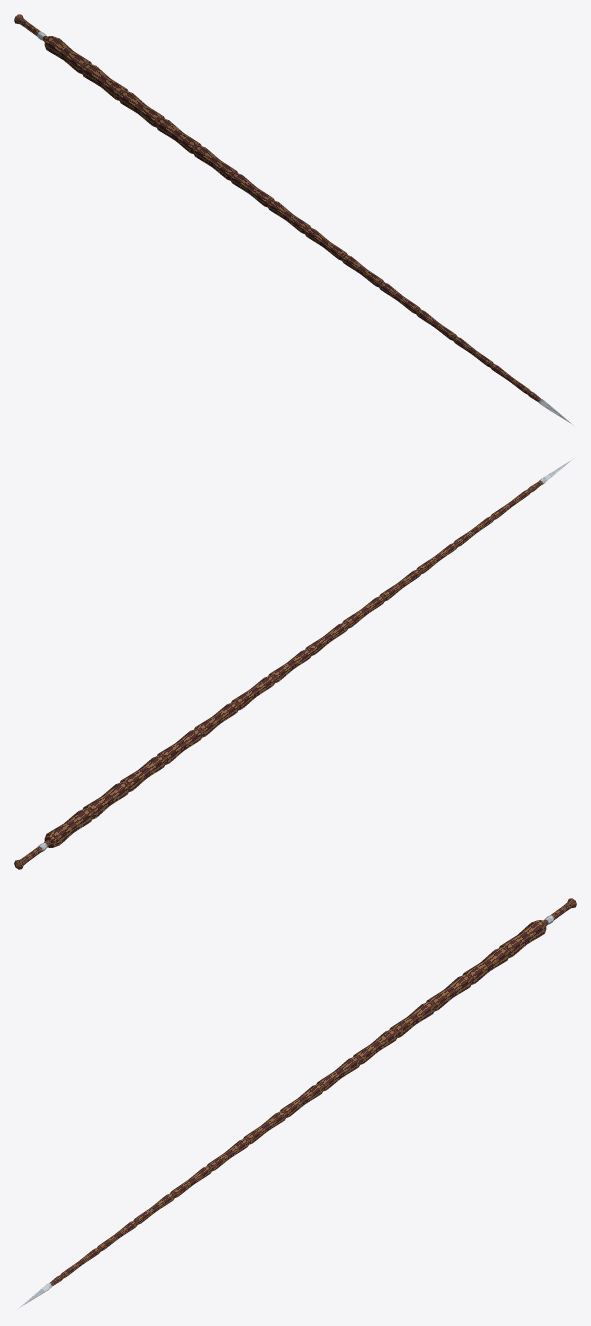
Rendered from peitsche-b-leder-schlag.glb.
The picture shows the model from 3 angles, top to bottom: view 1: azimuth 30°, elevation 25°; view 2: azimuth 150°, elevation 25°; view 3: azimuth 330°, elevation 25°; orthographic projection.
Parts seen in each view (by area): view 1: seg01, seg02, seg03, seg04, seg05, seg06; view 2: seg01, seg02, seg03, seg04, seg05, seg06; view 3: seg01, seg02, seg03, seg04, seg05, seg06.
Boxes of the visible parts, bbox=[...] form: seg01: bbox=[44, 36, 91, 73]; seg02: bbox=[82, 63, 128, 100]; seg03: bbox=[119, 90, 164, 127]; seg04: bbox=[156, 118, 201, 153]; seg05: bbox=[193, 145, 237, 180]; seg06: bbox=[230, 172, 274, 207]; seg01: bbox=[44, 808, 92, 847]; seg02: bbox=[83, 782, 128, 819]; seg03: bbox=[120, 755, 165, 791]; seg04: bbox=[157, 728, 201, 764]; seg05: bbox=[194, 702, 238, 737]; seg06: bbox=[231, 675, 275, 710]; seg01: bbox=[499, 920, 546, 957]; seg02: bbox=[462, 947, 508, 984]; seg03: bbox=[426, 974, 471, 1011]; seg04: bbox=[389, 1002, 434, 1037]; seg05: bbox=[353, 1029, 397, 1064]; seg06: bbox=[316, 1056, 360, 1091].
Size of the model in its own units: 0.1215 by 0.1403 by 8.78.
1 material, 1 textured.
